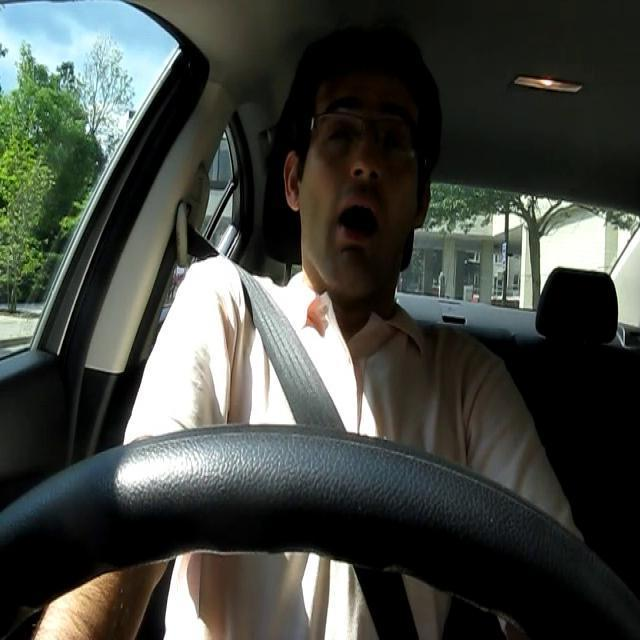close: (375, 102, 411, 158), (324, 104, 362, 148)
